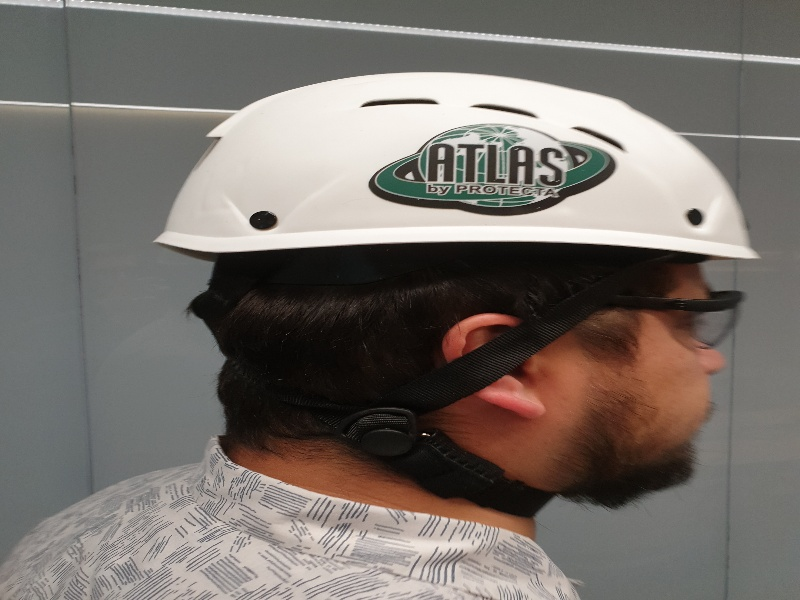Baret: (157, 73, 758, 262)
Gozluk: (594, 290, 746, 359)
